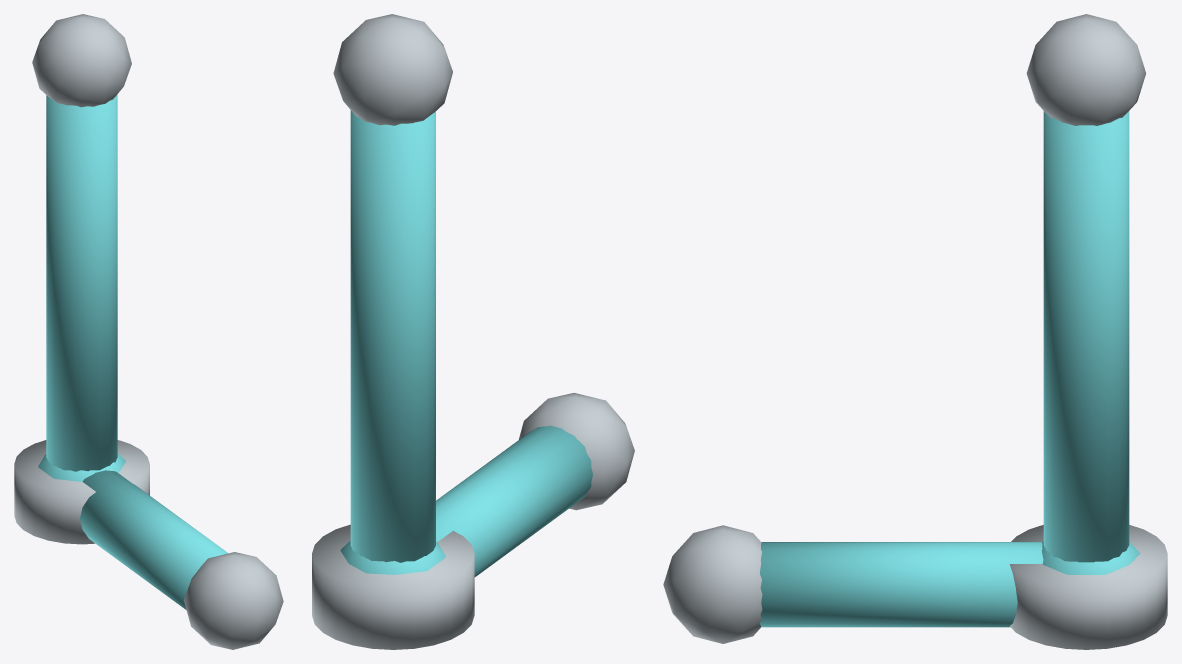
Rendered from pipe_riser_enhanced.glb.
3 views of the same model, side by side, from view 1: azimuth 30°, elevation 25°; view 2: azimuth 150°, elevation 25°; view 3: azimuth 270°, elevation 25° (orthographic). The views are drawn at different scales.
Parts seen in each view (by area): view 1: Conduit_cyan, Coupler_steel, JunctionCap_steel, Junction_cyan; view 2: Conduit_cyan, Coupler_steel, JunctionCap_steel, Junction_cyan; view 3: Conduit_cyan, Coupler_steel, JunctionCap_steel, Junction_cyan.
Part boxes in pixels (x1,y1,x2,y2): Conduit_cyan: (46,94,228,609); Coupler_steel: (32,14,283,649); JunctionCap_steel: (14,440,149,544); Junction_cyan: (38,453,125,481); Conduit_cyan: (350,110,592,577); Coupler_steel: (333,14,634,510); JunctionCap_steel: (312,524,474,649); Junction_cyan: (340,541,445,574); Conduit_cyan: (760,111,1129,627); Coupler_steel: (663,14,1146,643); JunctionCap_steel: (1009,525,1167,649); Junction_cyan: (1041,541,1140,574).
Bounding box in the file's own units: 0.38 × 1.61 × 1.18.
